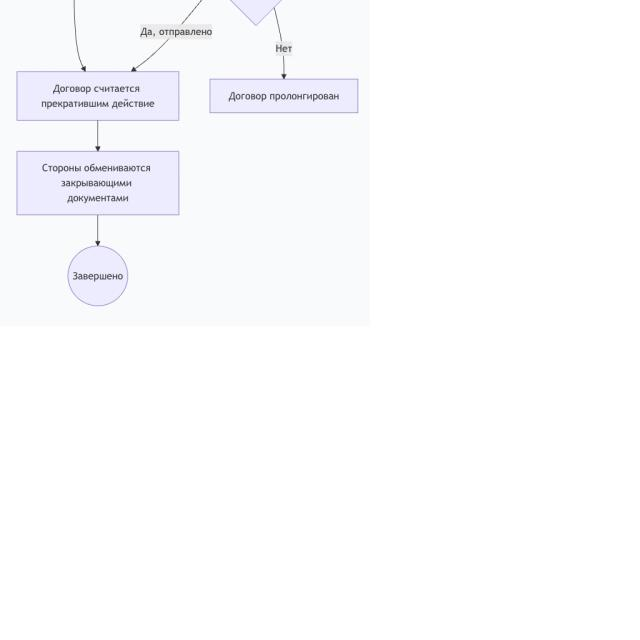arrow: (273, 8, 286, 80), (93, 121, 102, 152), (94, 215, 101, 247)
circle: (66, 244, 128, 308)
rectangle: (17, 152, 179, 215), (17, 72, 179, 120), (210, 79, 358, 113)
text_region: (139, 23, 212, 39), (275, 42, 292, 55)
